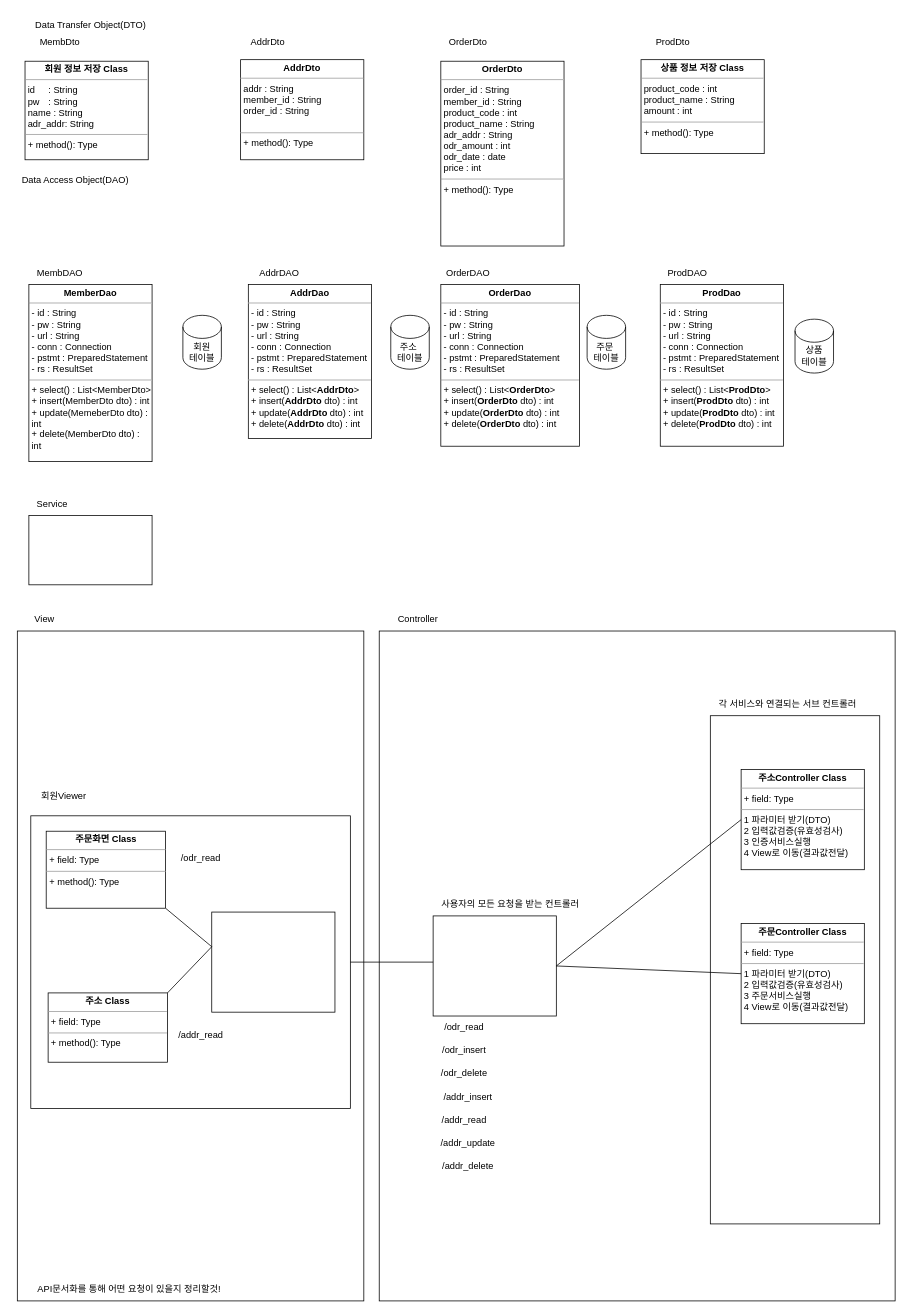
This 909x1314 diagram has some shape labels left out. Each missing label, with the centre of its shape:
"FrontController Class + field: Type + method(): Type" goes at pixel 494 965.
"메인 화면 Class + field: Type + method(): Type" goes at pixel 273 961.
"주문Class + field: Type 주문 처리" goes at pixel 90 550.
